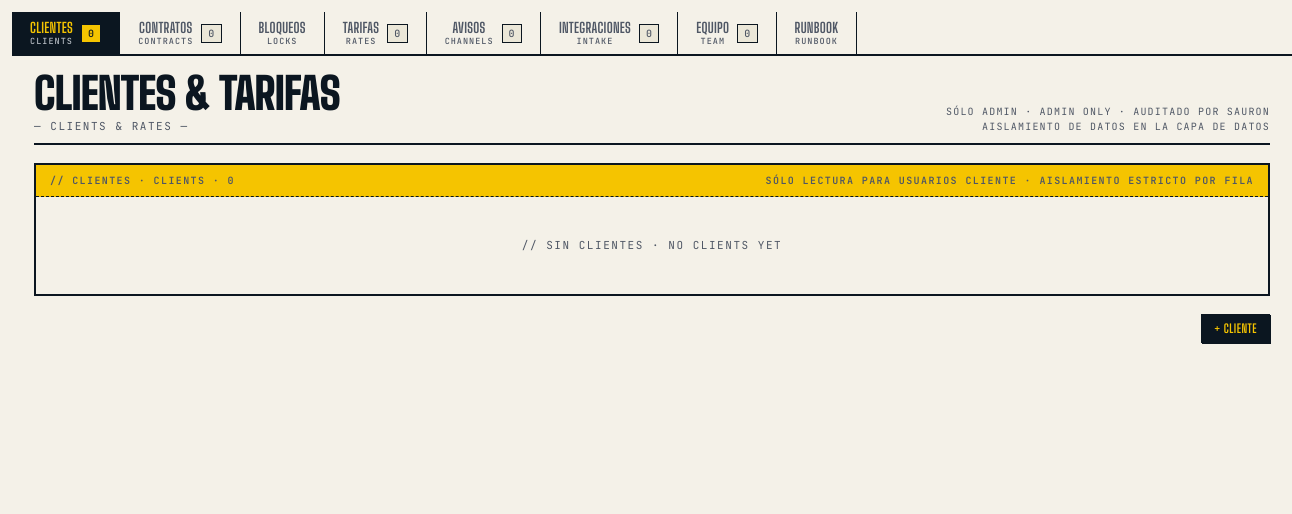
SettingsPage › cancels the create-client form
Expected: the text "// sin clientes · no clients yet" is shown, [522,237,782,254]
Click the button "+ Cliente" at (1236, 329), box [1201,314,1270,343]
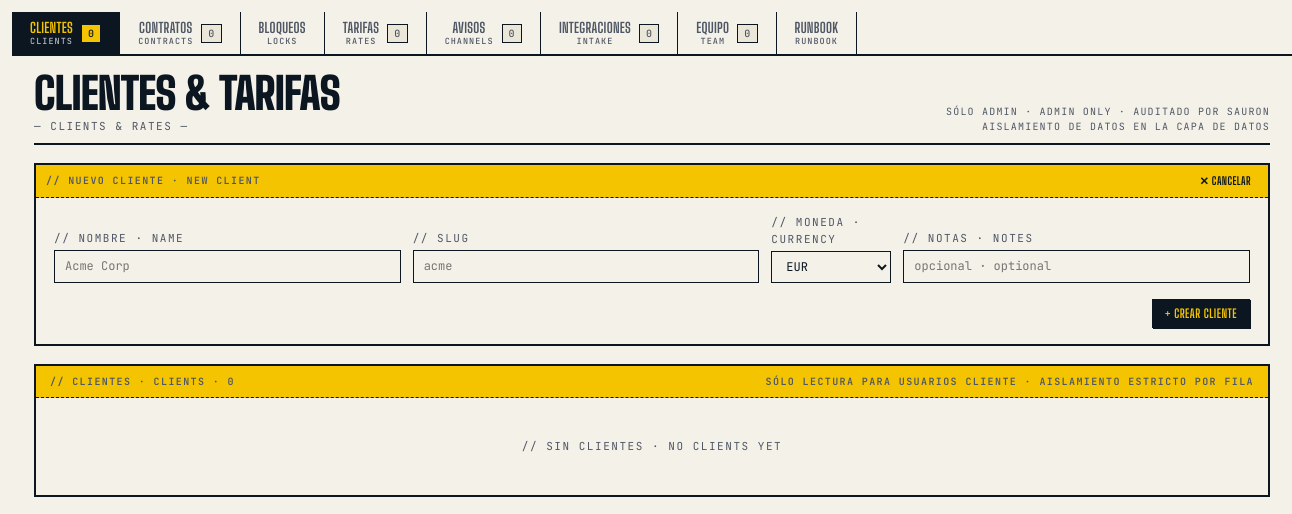
Expected: the text "// NUEVO CLIENTE · NEW CLIENT" is shown, [46,173,261,188]
Click the button "✕ cancelar" at (1225, 181), box [1192,171,1258,191]
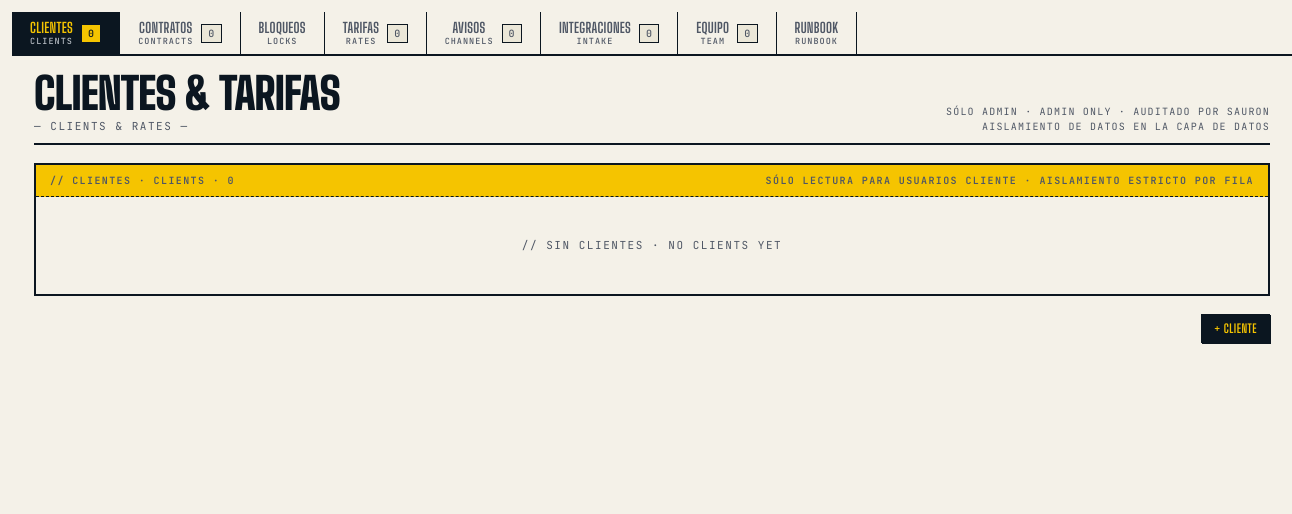
Expected: the text "// NUEVO CLIENTE · NEW CLIENT" is gone
